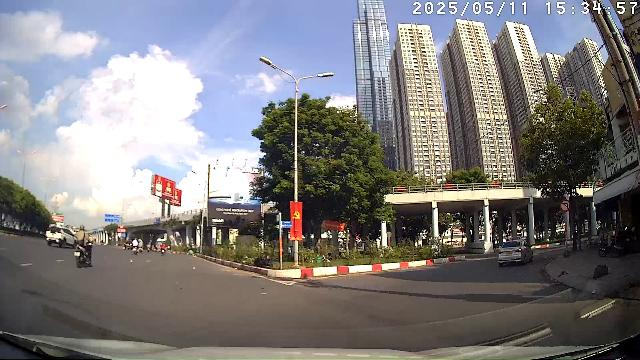123a-cam-re-trai: (559, 199, 571, 212)
